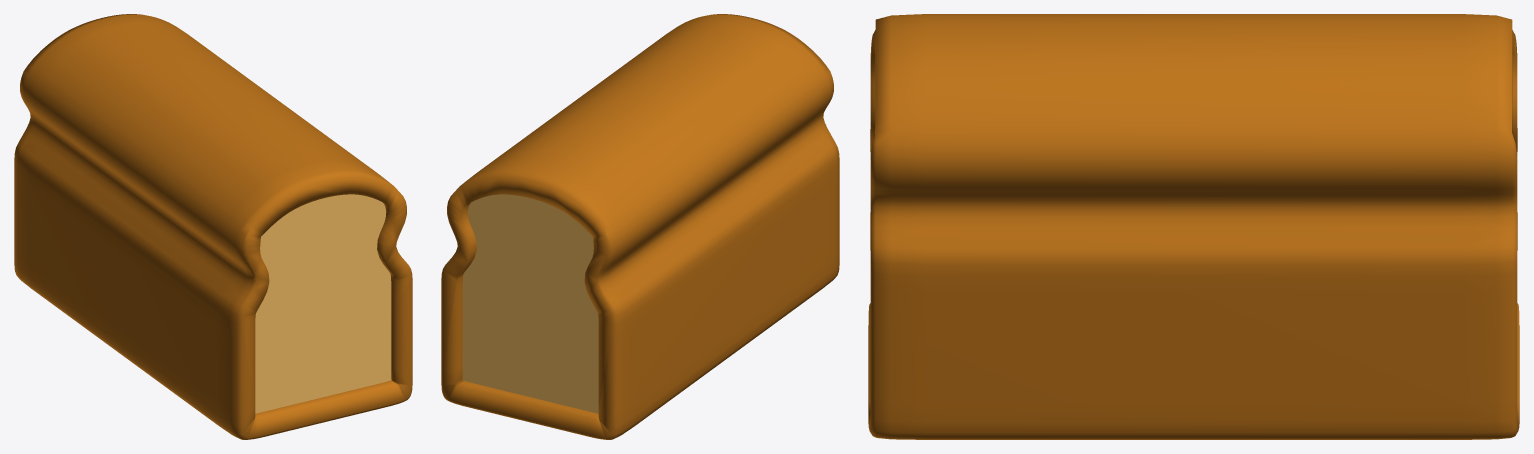
File: Bread6.fbx
3 renders of one model, left to right at view 1: azimuth 30°, elevation 25°; view 2: azimuth 150°, elevation 25°; view 3: azimuth 270°, elevation 25°, orthographic. The views are drawn at different scales.
Parts seen in each view (by area): view 1: Bread6; view 2: Bread6; view 3: Bread6.
Part boxes in pixels (<box>): Bread6: <box>14,14,412,439</box>; Bread6: <box>441,14,839,439</box>; Bread6: <box>868,14,1519,439</box>.
Bounding box in the file's own units: 1.08 × 2.36 × 1.41.
